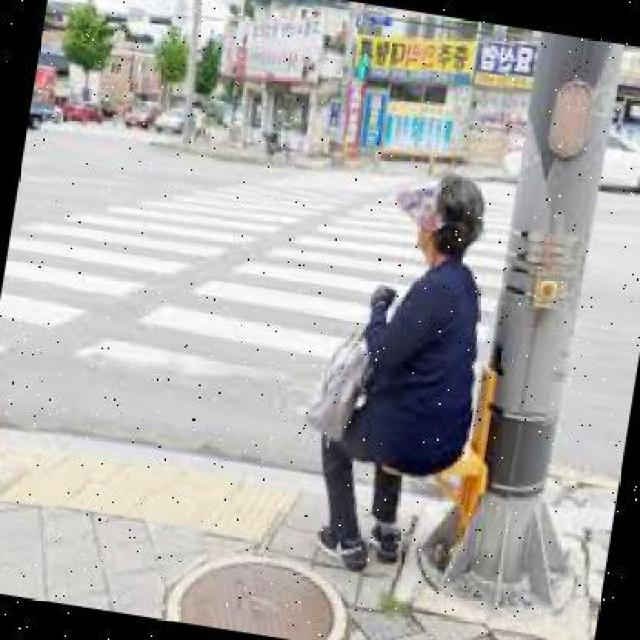Person: (303, 160, 525, 585)
